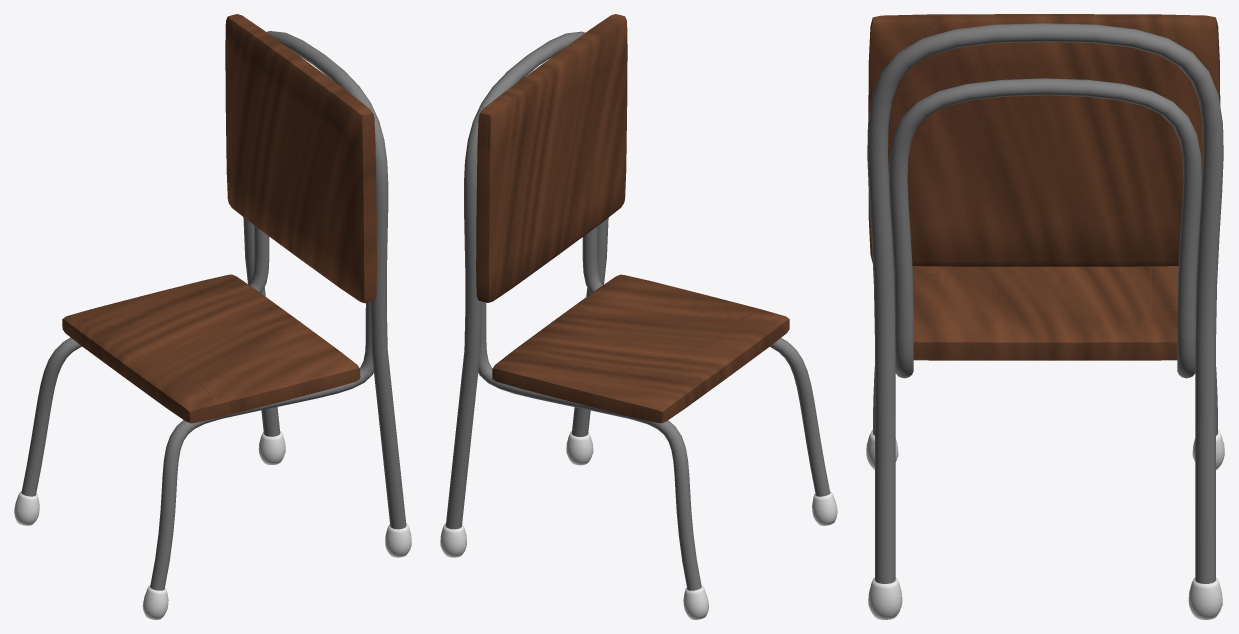
Rendered from cadeira.fbx.
3 renders of one model, left to right at view 1: azimuth 30°, elevation 25°; view 2: azimuth 150°, elevation 25°; view 3: azimuth 270°, elevation 25°, orthographic. The views are drawn at different scales.
Visible parts, largest first — view 1: cadeira_LOD0; view 2: cadeira_LOD0; view 3: cadeira_LOD0.
Part boxes in pixels (<box>): cadeira_LOD0: <box>14,14,411,619</box>; cadeira_LOD0: <box>440,14,837,619</box>; cadeira_LOD0: <box>866,14,1224,619</box>.
Size of what is drawn, in the model's own units: 62.07 by 103 by 56.92.
Materials: 3 (1 with a texture image).
